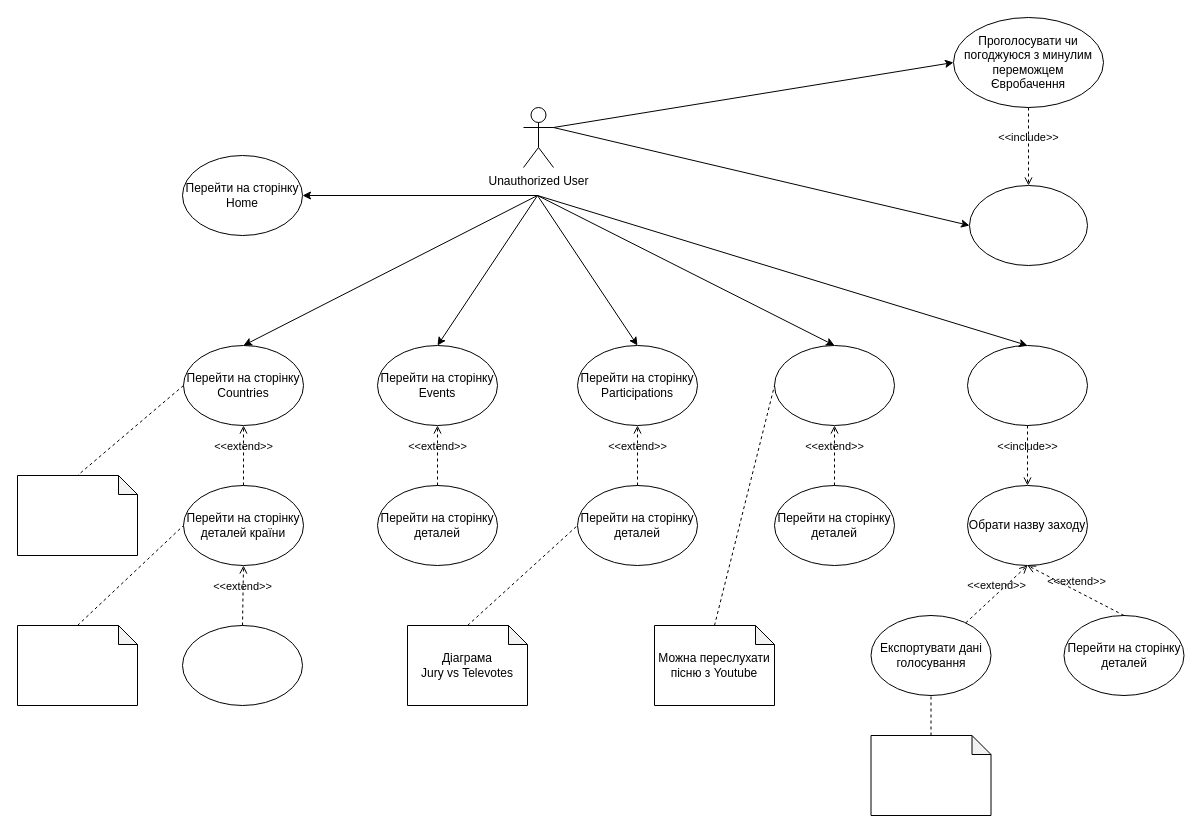
The diagram is 1202 pixels wide and 833 high, and some of its shapes have lost their labels. The shapes that lost their labels are listed below. From the top down, each one's centre as x and y in pixels, then its label:
[1028,225]: Авторизуватися
[834,385]: Перейти на сторінку Songs
[1027,385]: Перейти на сторінку Votes
[77,515]: Діаграма рейтингу країн за роками
[77,665]: Діаграма рейтингу країни за роками
[242,665]: Копіювати Url прапора країни
[930,775]: - Всі голоси - Голоси обраного заходу
